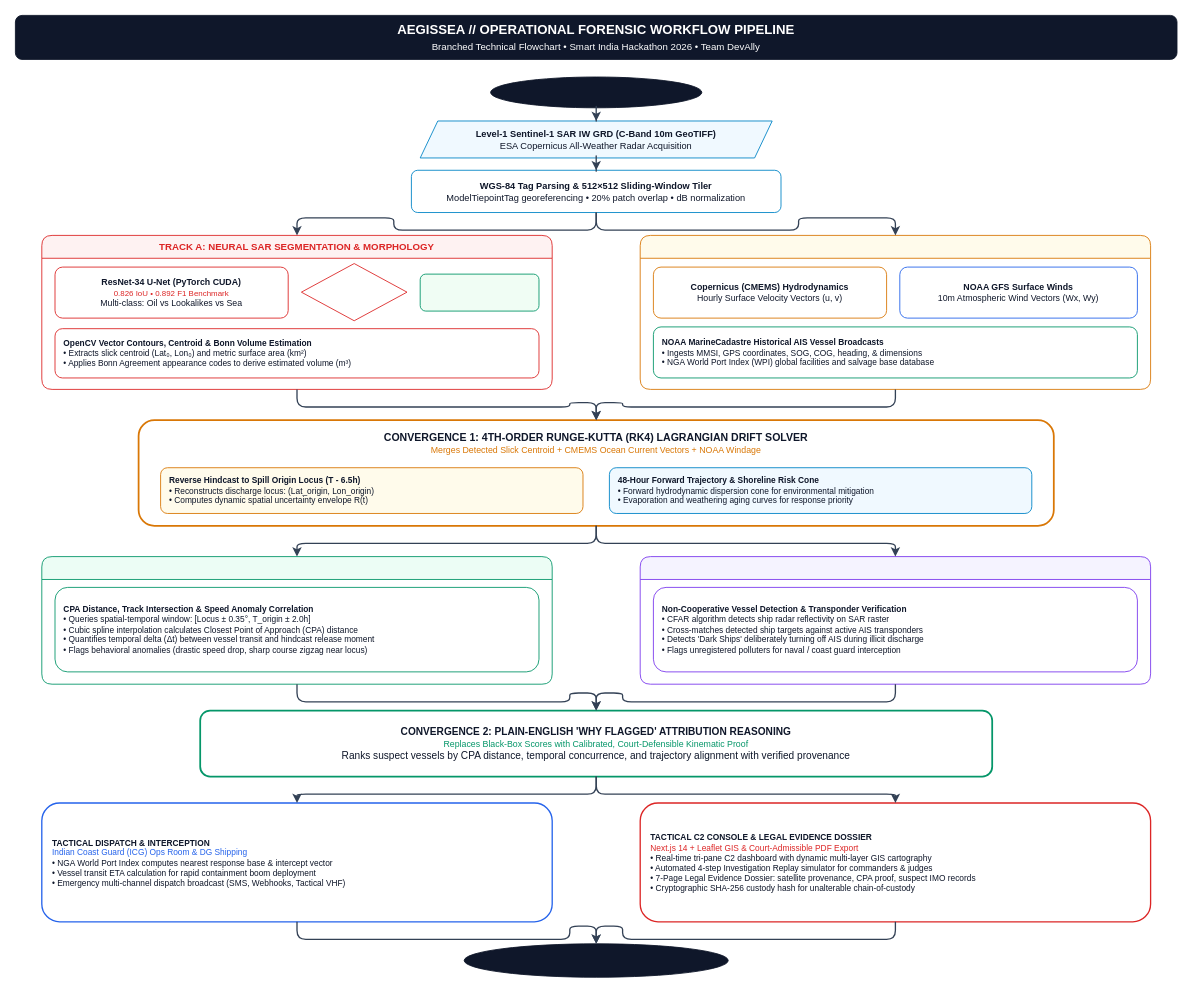
This 1192x993 diagram has some shape labels left out. The shapes that lost their labels are listed below. From the top down, each one's box as (x1, y1, x2, y2) in pixels, then its label:
(490, 76, 702, 108): START Satellite Pass / Ingest
(301, 263, 407, 321): Oil Pixels > 500? Conf > 50%?
(419, 273, 539, 311): Clean Sea Verified Zero discharge logged
(639, 235, 1151, 389): TRACK B: METOCEAN & MARITIME STREAM INGESTION
(41, 556, 552, 684): TRACK C: SPATIO-TEMPORAL AIS KINEMATIC ATTRIBUTION
(639, 556, 1151, 684): TRACK D: DARK TARGET SAR RADAR CROSS-MATCH
(463, 943, 728, 977): END: INTERCEPTION & EVIDENCE LOGGED
